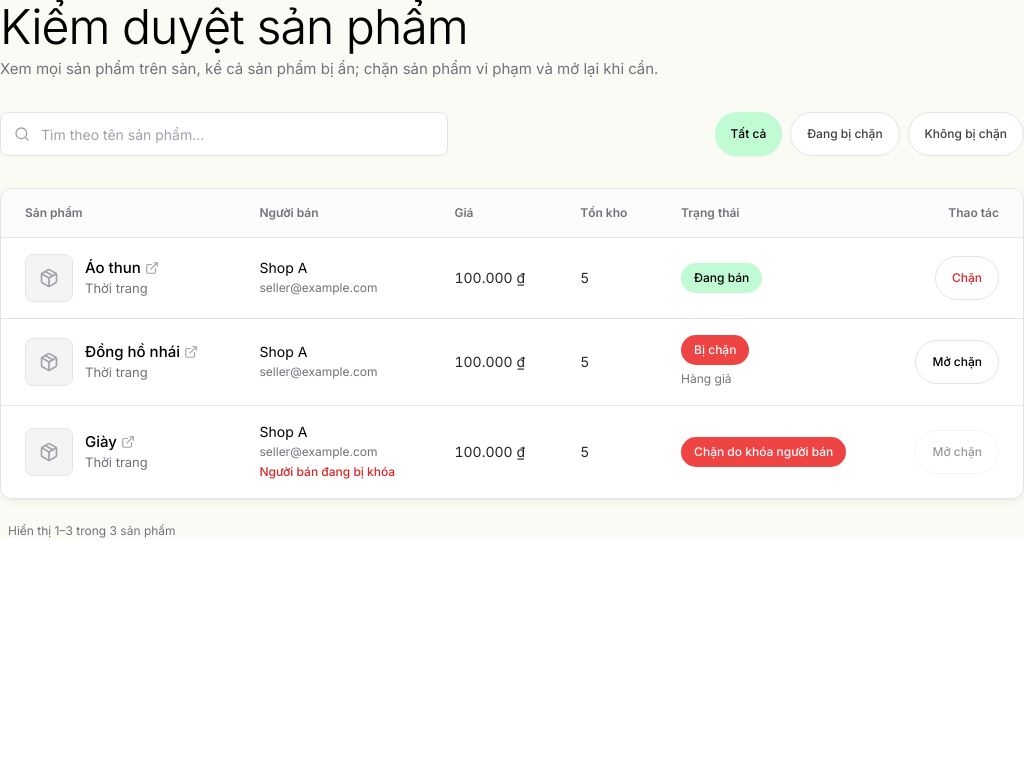
AdminProductPage › chặn sản phẩm: nhập lý do, xác nhận, báo thành công và đóng dialog
The image size is (1024, 768).
Step 1. Click the button with aria-label "Chặn Áo thun" → (967, 278), box [935,256,999,300]
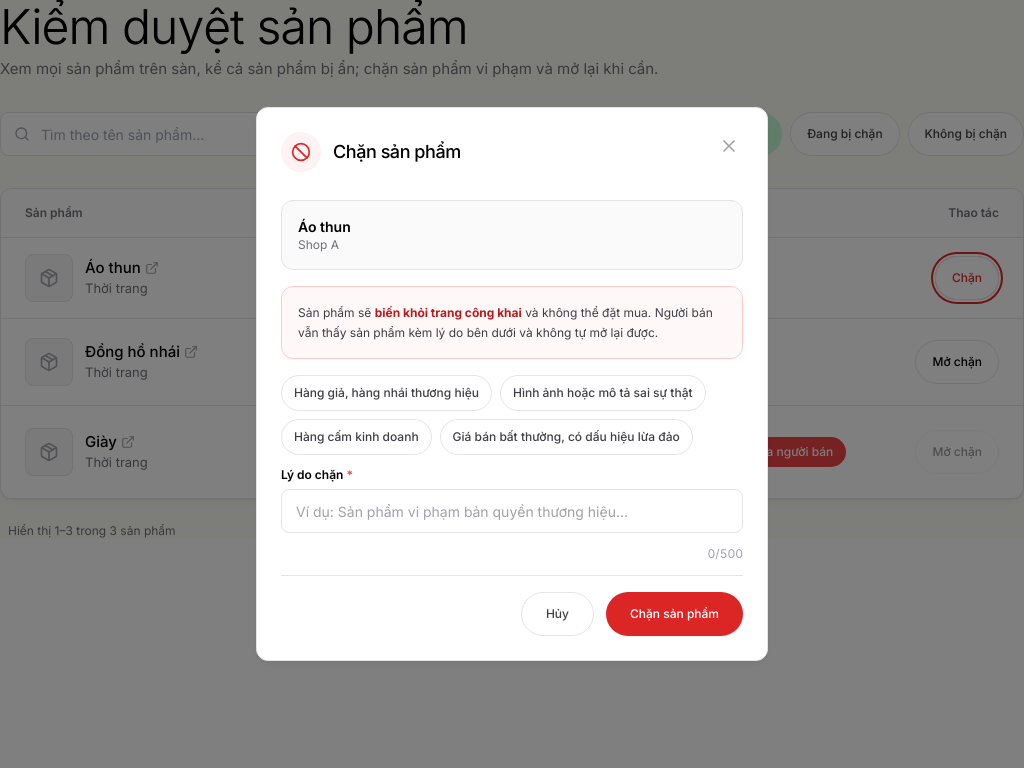
Step 2. Type "Hàng nhái thương hiệu" into the field labelled "Lý do chặn" → (512, 511), box [281,489,743,533]
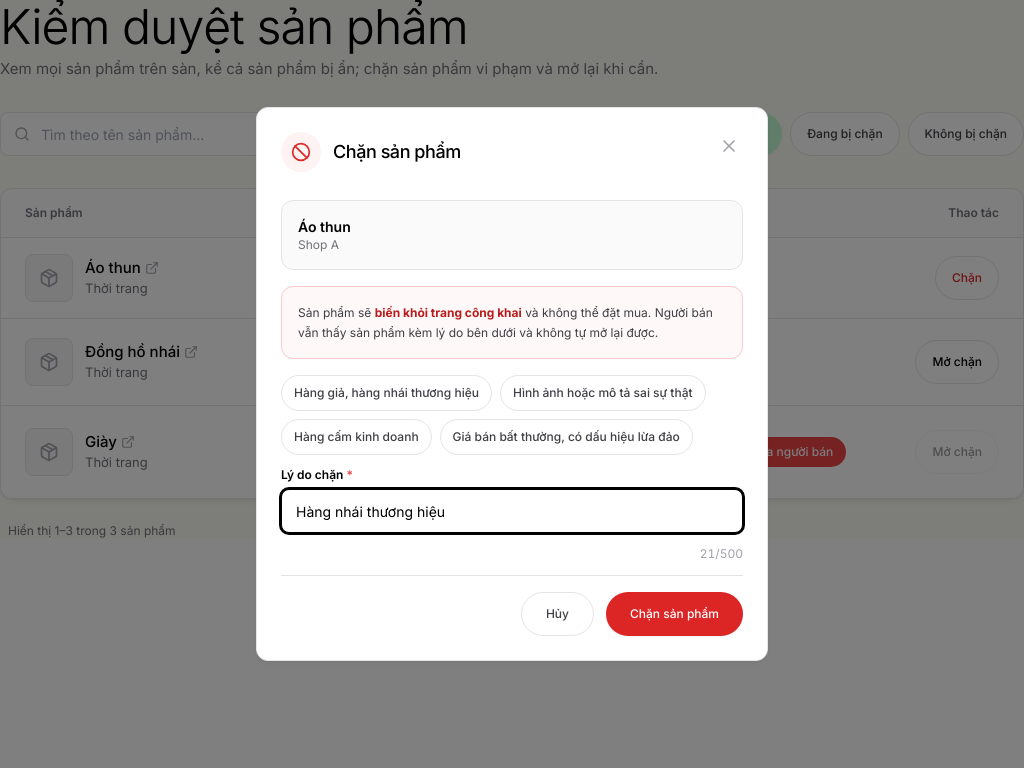
Step 3. Click the button "Chặn sản phẩm" → (674, 614), box [606,592,743,636]
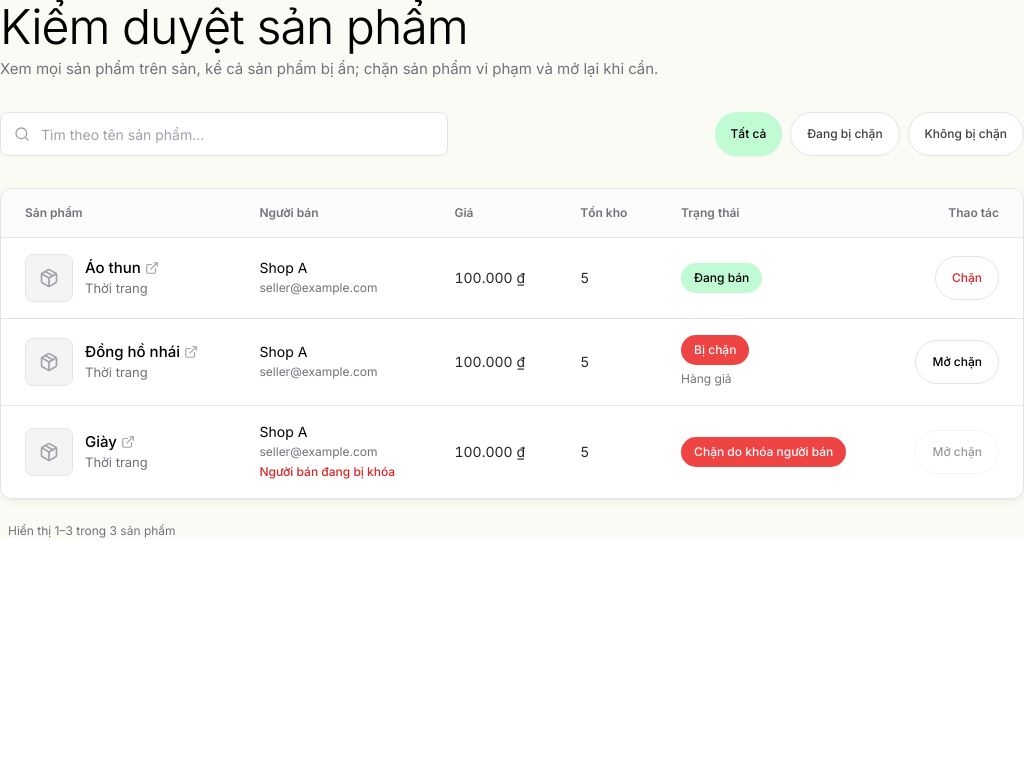
Now the dialog with test id "block-product-dialog" is gone
